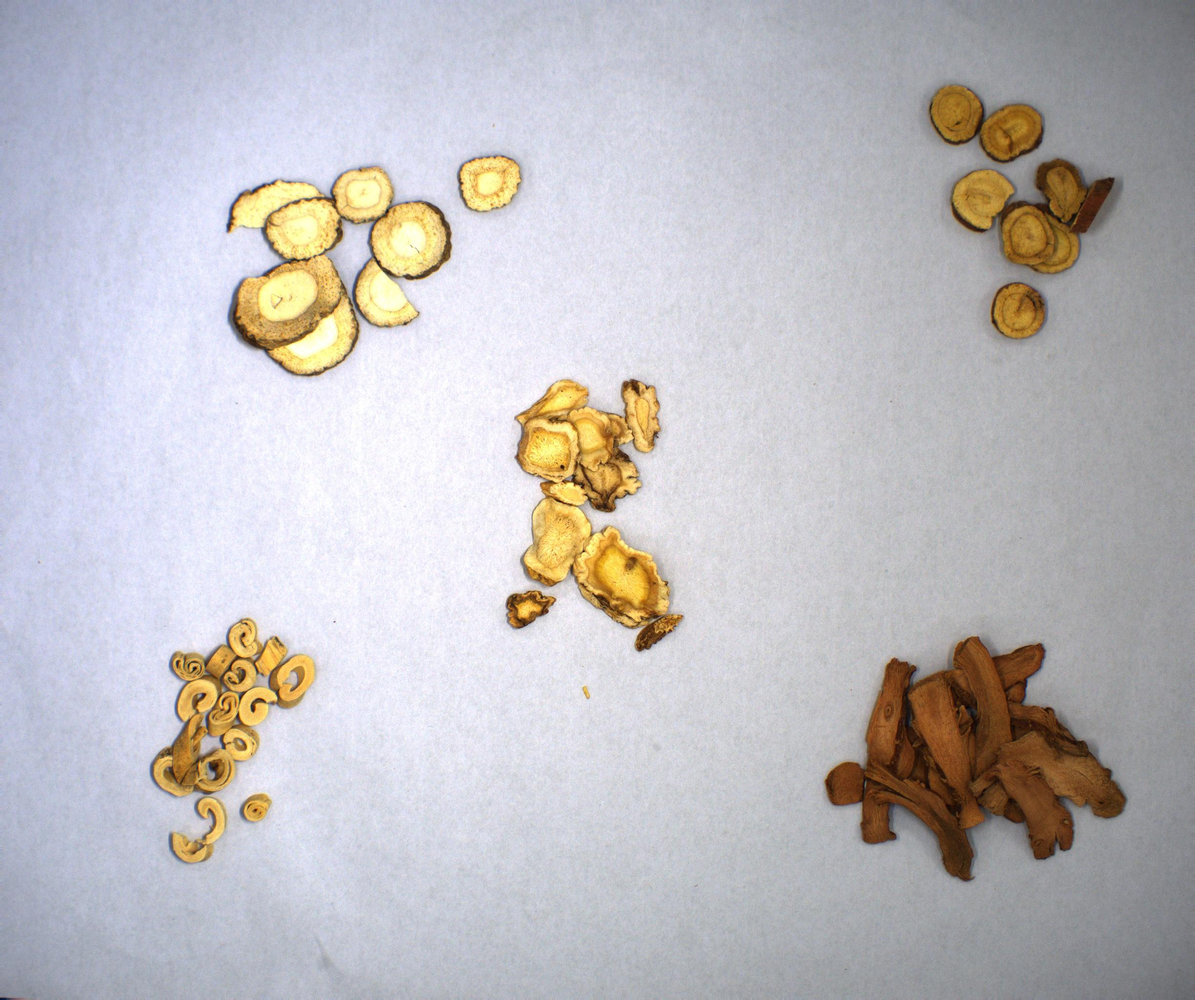baixianpi: (148, 613, 322, 874)
baizhi: (224, 153, 527, 381)
gancaopian: (919, 72, 1123, 351)
gaoliangjiang: (822, 634, 1130, 886)
jiegeng: (501, 383, 694, 659)
